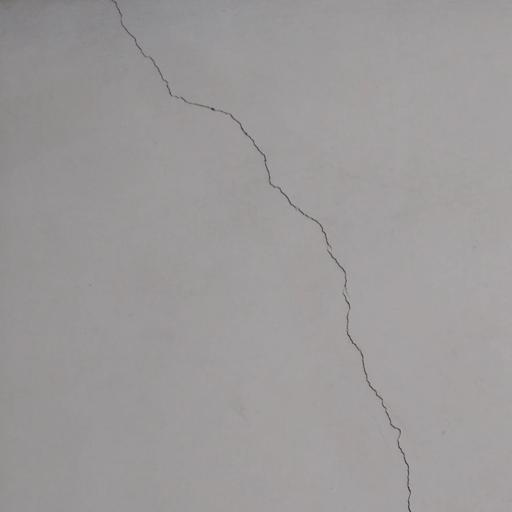major_crack: (106, 0, 424, 512)
